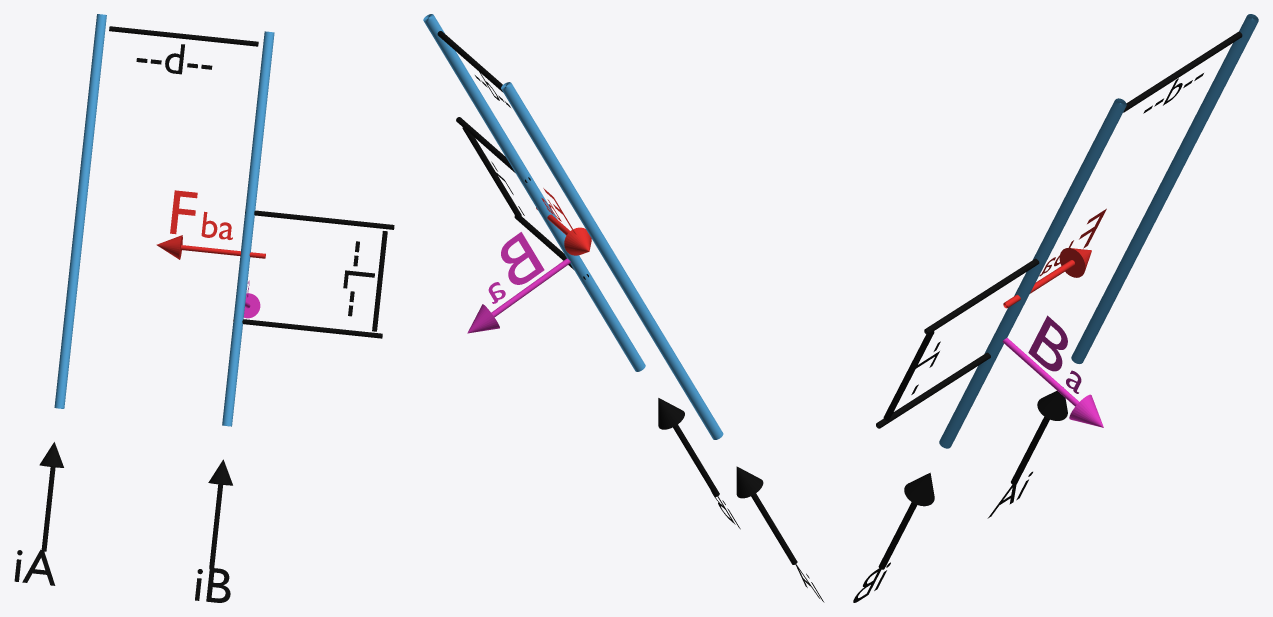
File: parallel_current.glb
The picture shows the model from 3 angles, left to right: view 1: azimuth 30°, elevation 25°; view 2: azimuth 150°, elevation 25°; view 3: azimuth 270°, elevation 25°; orthographic projection. The views are drawn at different scales.
Visible parts, largest first — view 1: Cylinder, Cylinder.001, Cylinder.002, Cylinder.006, Cylinder.005, Text.002, Cylinder.007, Text.001, Text.004; view 2: Cylinder, Cylinder.001, Text.006, Cylinder.007, Cone.001, Cone, Cylinder.008, Cone.004, Cylinder.002, Cylinder.010, Cylinder.003; view 3: Cylinder, Cylinder.001, Cylinder.002, Cylinder.005, Text.006, Cylinder.006, Cone.004, Cone, Cylinder.007, Cylinder.008, Cone.002, Cone.001.
Boxes of the visible parts, box(x1,y1,x2,y2) form: Cylinder: box(54, 14, 106, 408); Cylinder.001: box(222, 31, 274, 426); Cylinder.002: box(109, 26, 258, 46); Cylinder.006: box(233, 319, 382, 338); Cylinder.005: box(245, 210, 394, 229); Text.002: box(195, 568, 230, 602); Cylinder.007: box(372, 231, 387, 331); Text.001: box(14, 549, 55, 585); Text.004: box(170, 190, 197, 234); Cylinder: box(501, 82, 723, 439); Cylinder.001: box(423, 14, 645, 371); Text.006: box(501, 232, 544, 284); Cylinder.007: box(462, 127, 521, 218); Cone.001: box(564, 227, 591, 255); Cone: box(736, 466, 763, 498); Cylinder.008: box(491, 258, 570, 317); Cone.004: box(658, 398, 684, 429); Cylinder.002: box(437, 31, 502, 91); Cylinder.010: box(673, 424, 719, 496); Cylinder.003: box(751, 493, 797, 564); Cylinder: box(1071, 14, 1258, 363); Cylinder.001: box(939, 98, 1126, 448); Cylinder.002: box(1123, 31, 1242, 112); Cylinder.005: box(924, 258, 1039, 334); Text.006: box(1028, 315, 1067, 371); Cylinder.006: box(876, 352, 990, 428); Cone.004: box(904, 472, 934, 506); Cone: box(1037, 387, 1067, 420); Cylinder.007: box(883, 331, 934, 420); Cylinder.008: box(1002, 338, 1078, 406); Cone.002: box(1069, 394, 1103, 427); Cone.001: box(1059, 248, 1091, 277).
Size of the model in its own units: 8.19 by 10.66 by 6.45.
